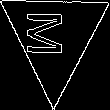M_E: (32, 14, 77, 61)
